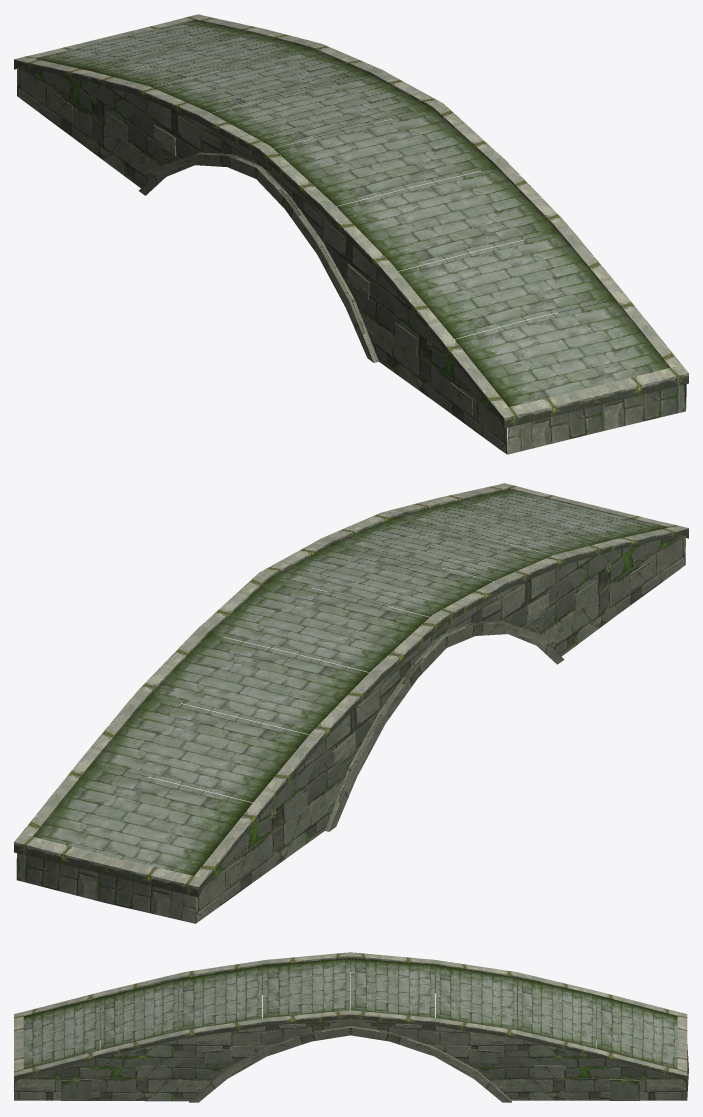
File: ss_qiao_1.FBX
The picture shows the model from 3 angles, top to bottom: view 1: azimuth 30°, elevation 25°; view 2: azimuth 150°, elevation 25°; view 3: azimuth 270°, elevation 25°; orthographic projection. The views are drawn at different scales.
Visible parts, largest first — view 1: ss_qiao_1; view 2: ss_qiao_1; view 3: ss_qiao_1.
Part boxes in pixels (x1=…): ss_qiao_1: x1=14, y1=14, x2=688, y2=454; ss_qiao_1: x1=14, y1=483, x2=688, y2=923; ss_qiao_1: x1=14, y1=952, x2=688, y2=1102.
Size of the model in its own units: 1275 by 814 by 5689.
